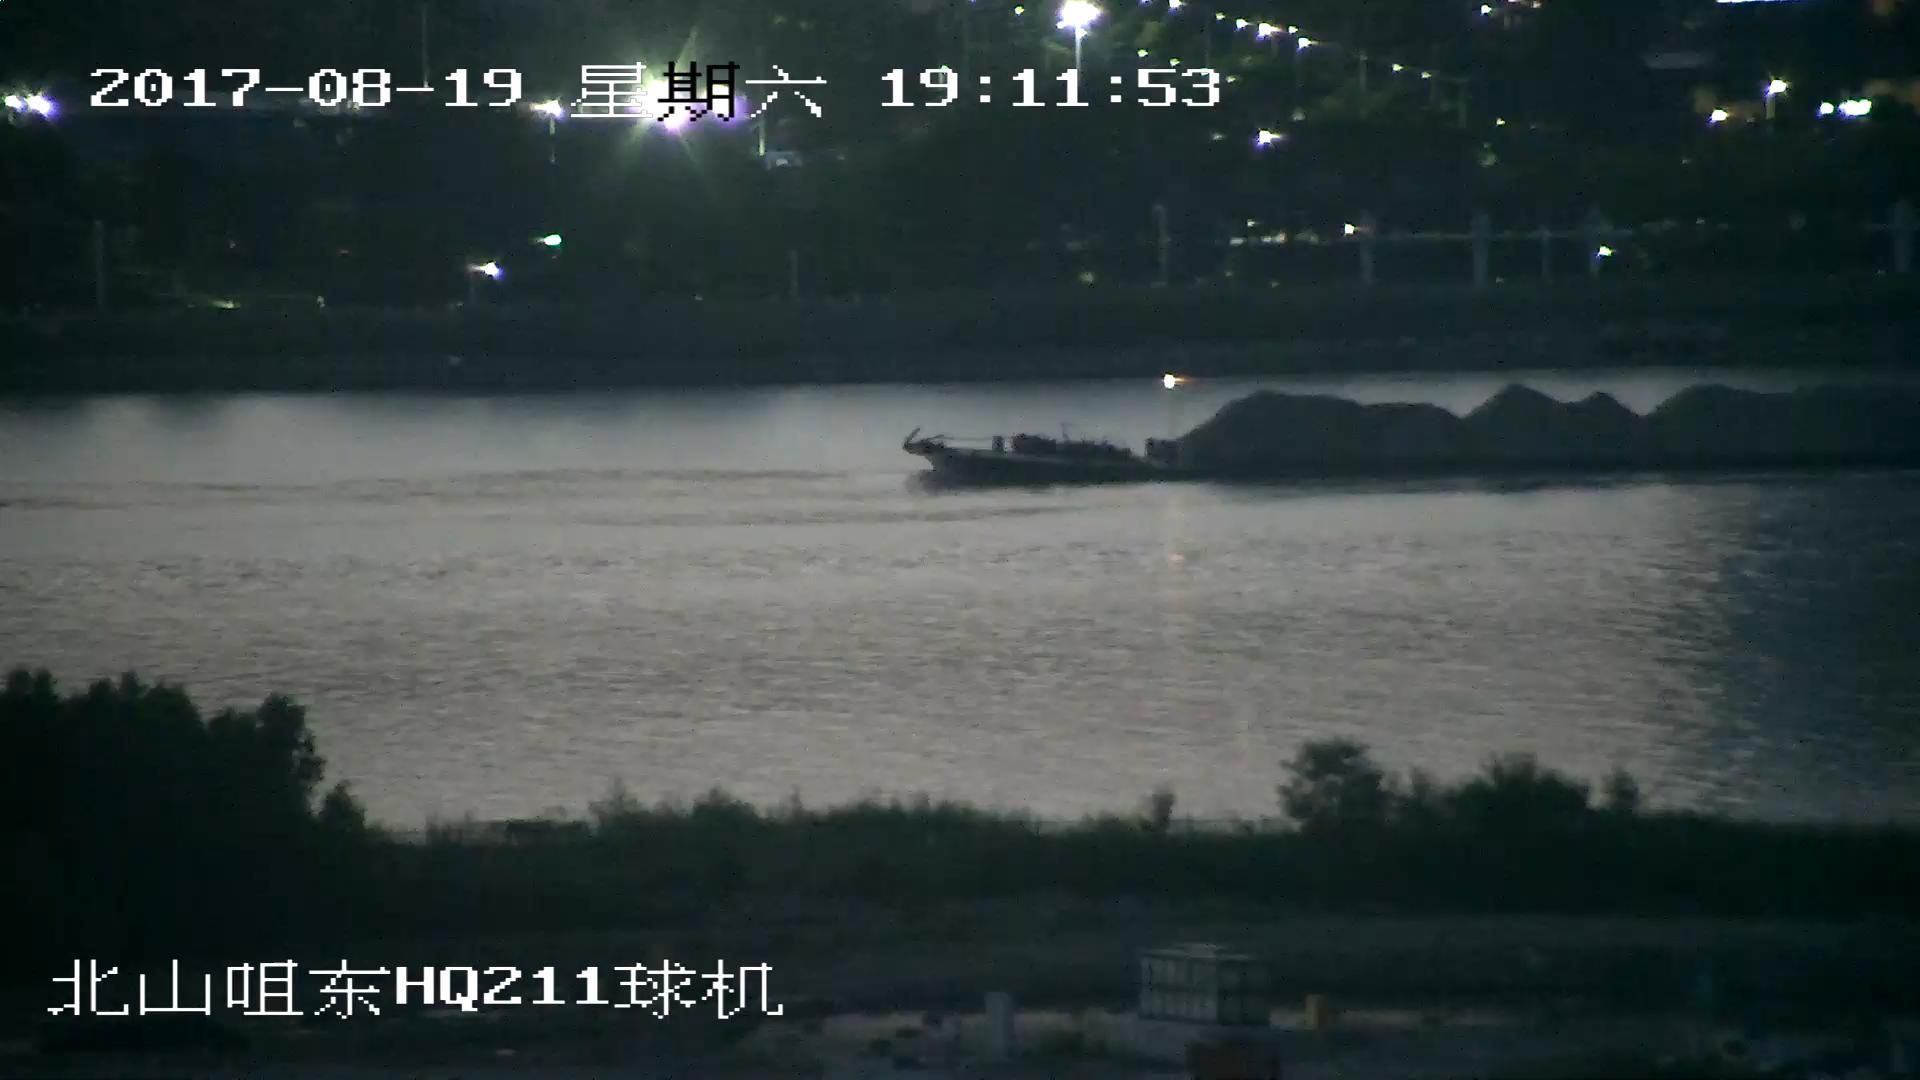Ship: (889, 382, 1920, 498)
